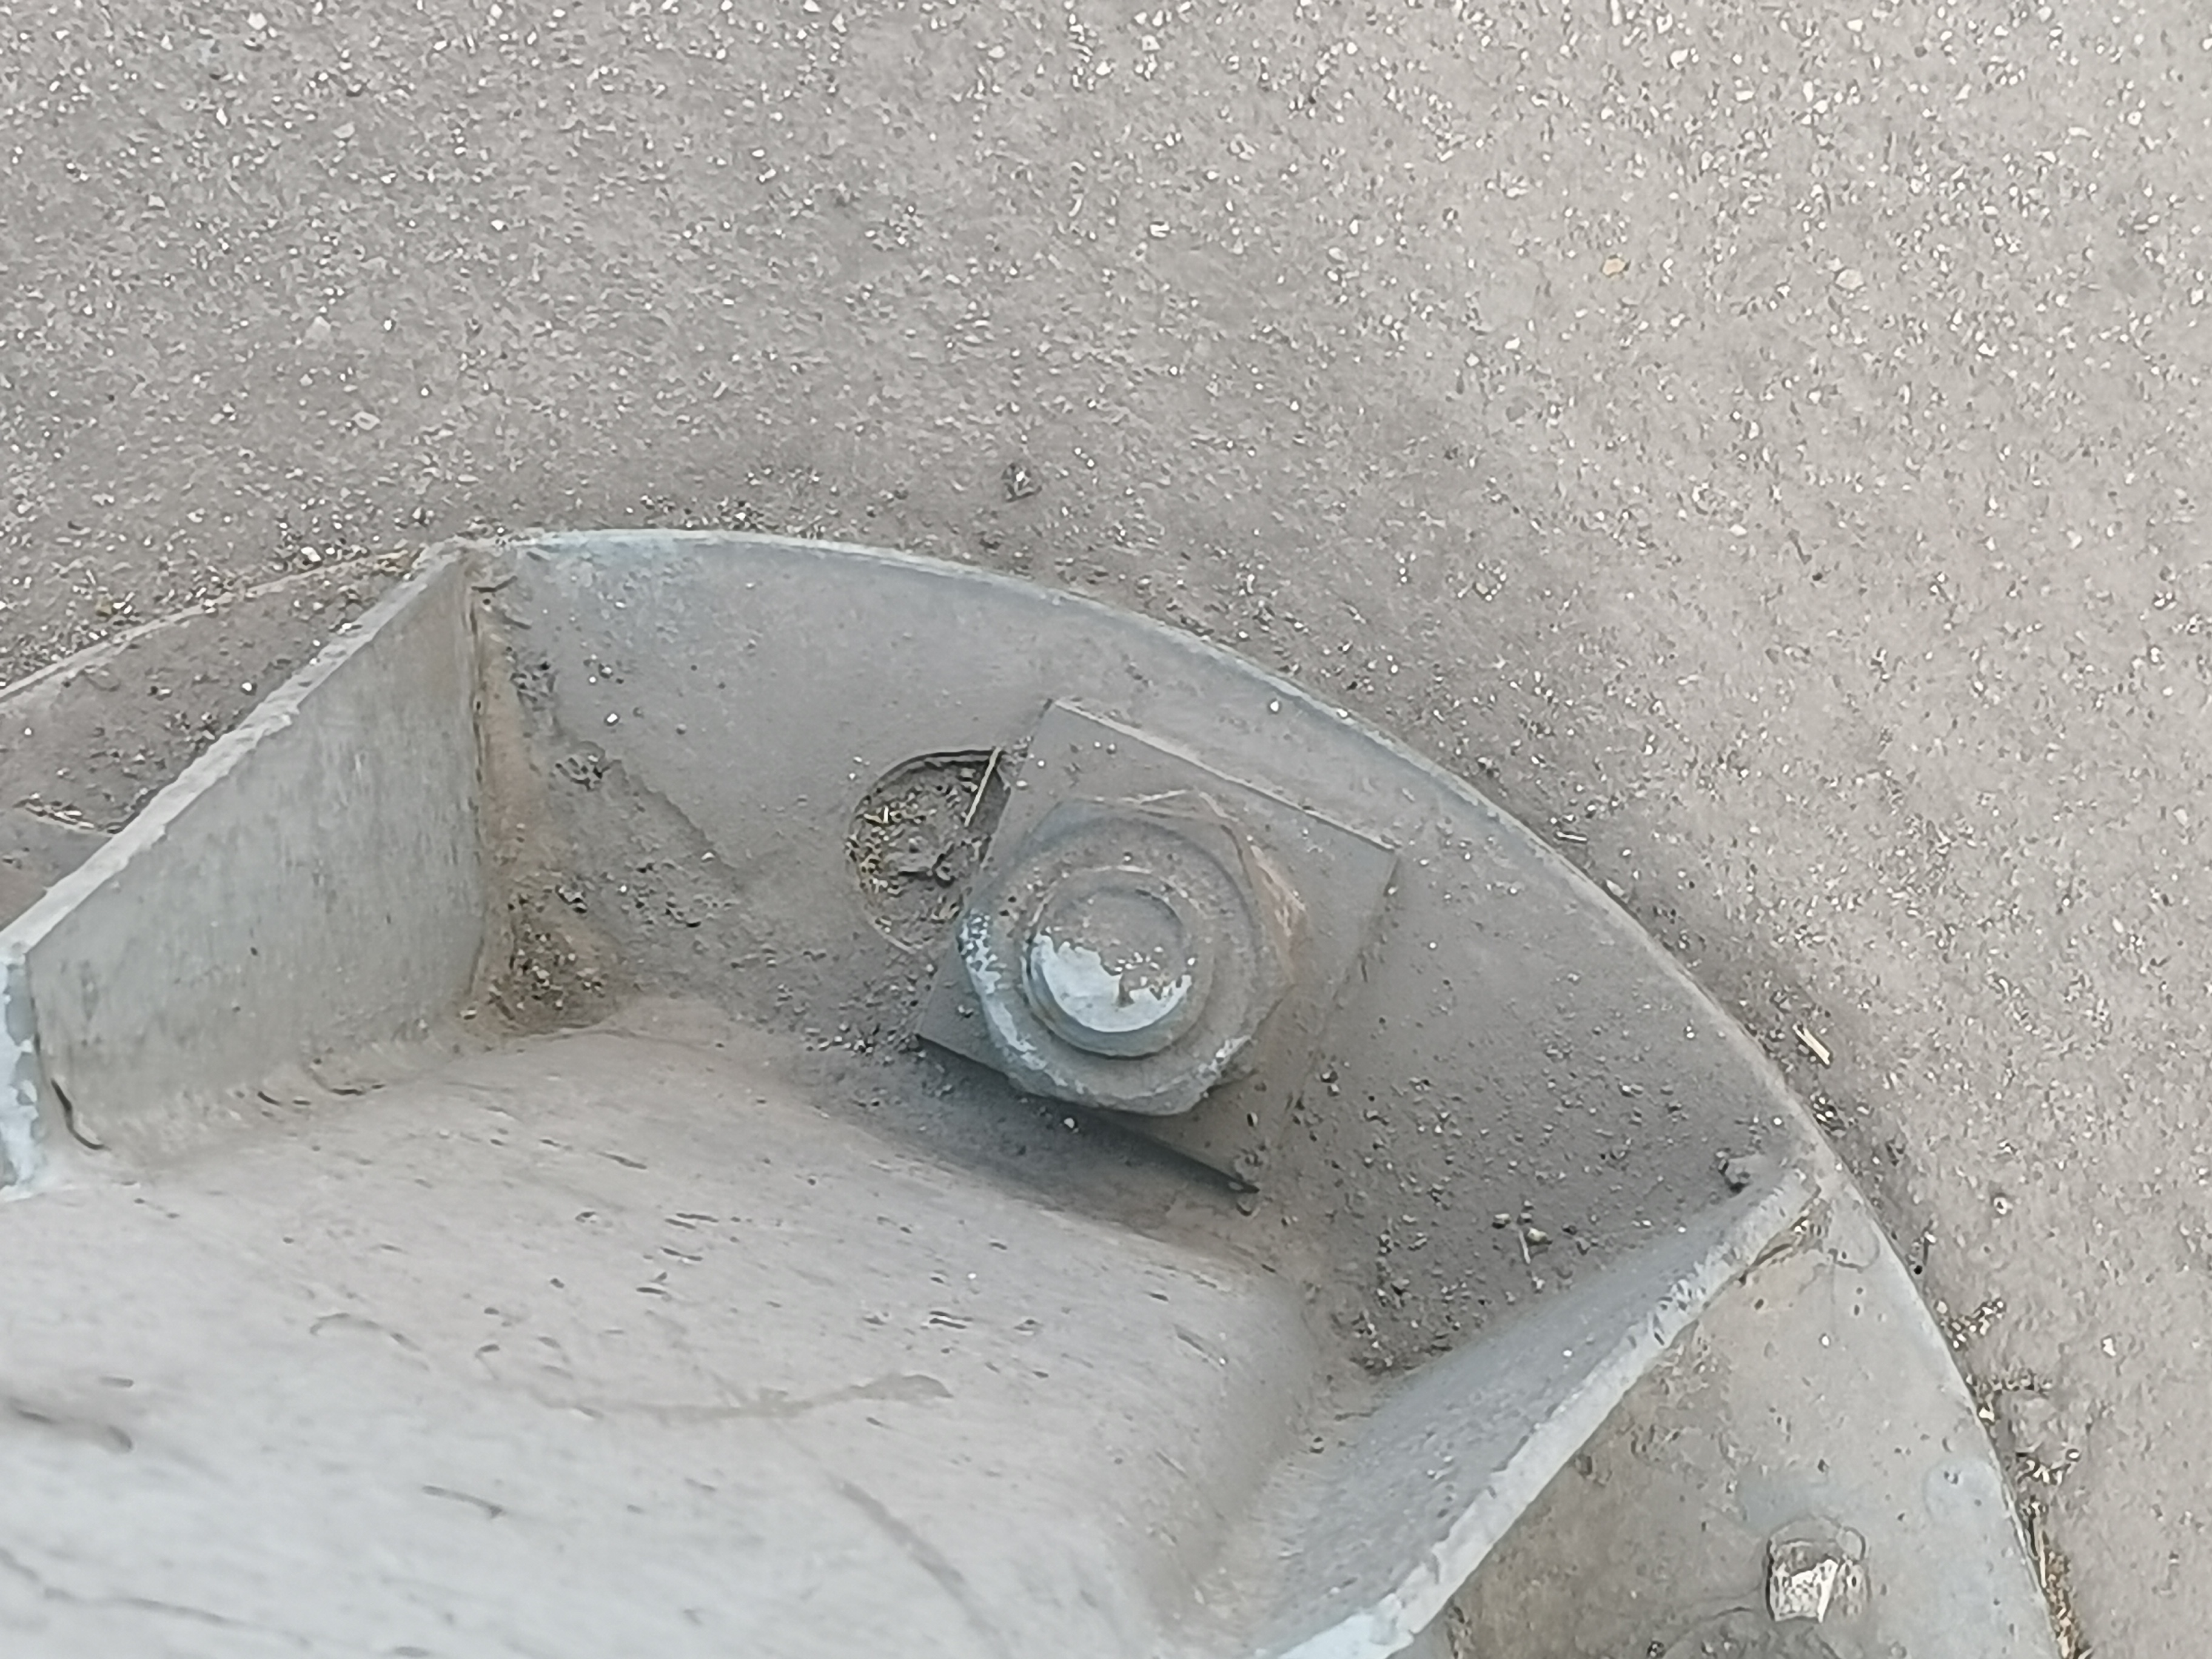bolt_b: (941, 786, 1303, 1126)
